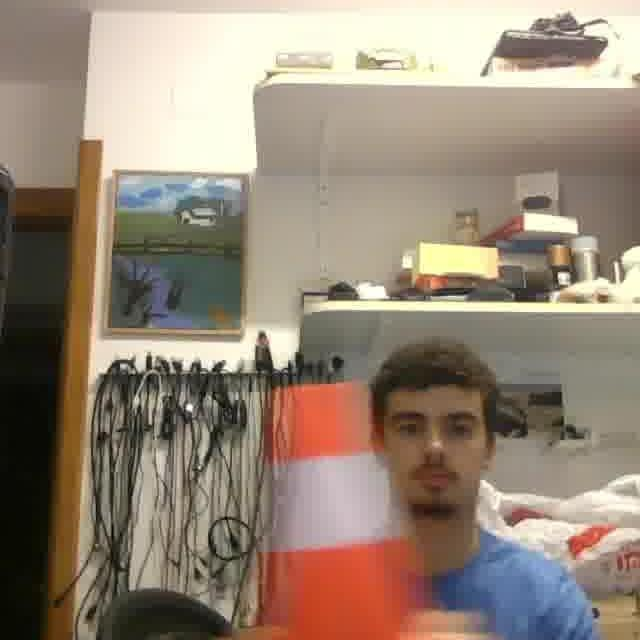NO-Hardhat: (376, 343, 491, 399)
NO-Mask: (405, 467, 473, 513)
NO-Safety Vest: (420, 548, 549, 640)
Person: (190, 342, 606, 640)
Safety Cone: (199, 378, 509, 640)
